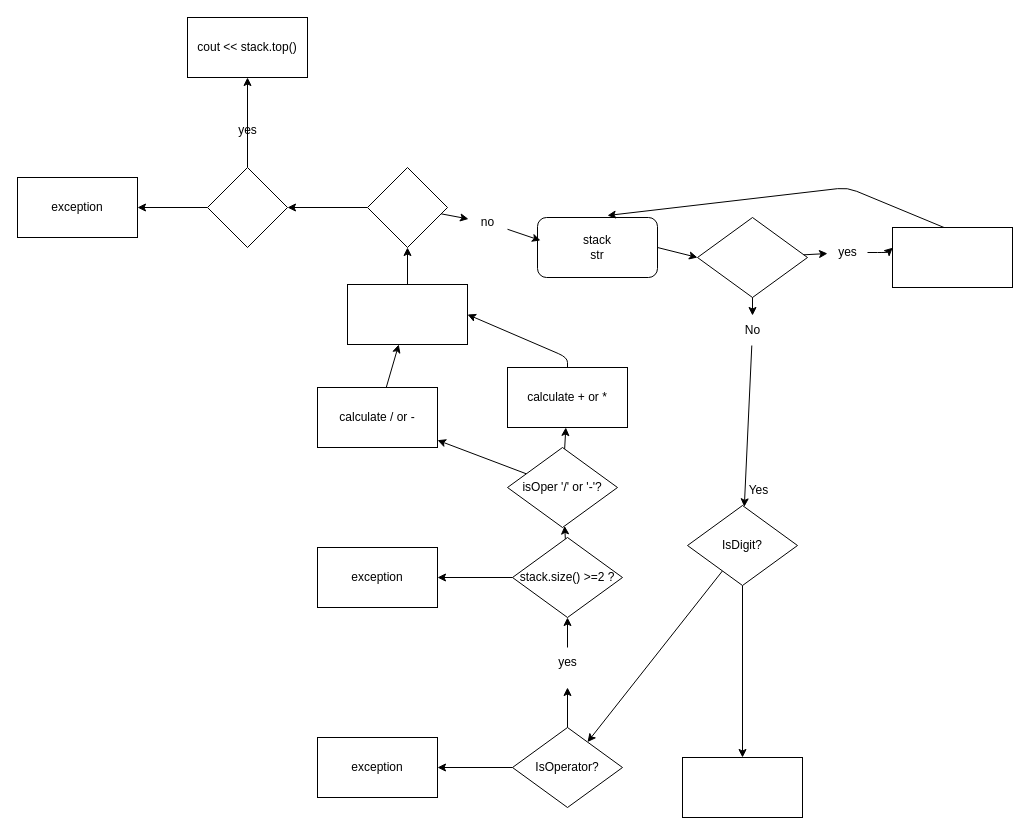
The diagram is 1030 pixels wide and 835 high, and some of its shapes have lost their labels. Each missing label, with the centre of its shape:
"endstring?" goes at (x=407, y=207).
"isSpace?" goes at (x=752, y=257).
"remove 2 elems from stack stack.push(res)" goes at (x=407, y=314).
"skip str++" goes at (x=952, y=257).
"stack.push(*str)" goes at (x=742, y=787).
"stack.size() == 1?" goes at (x=247, y=207).
